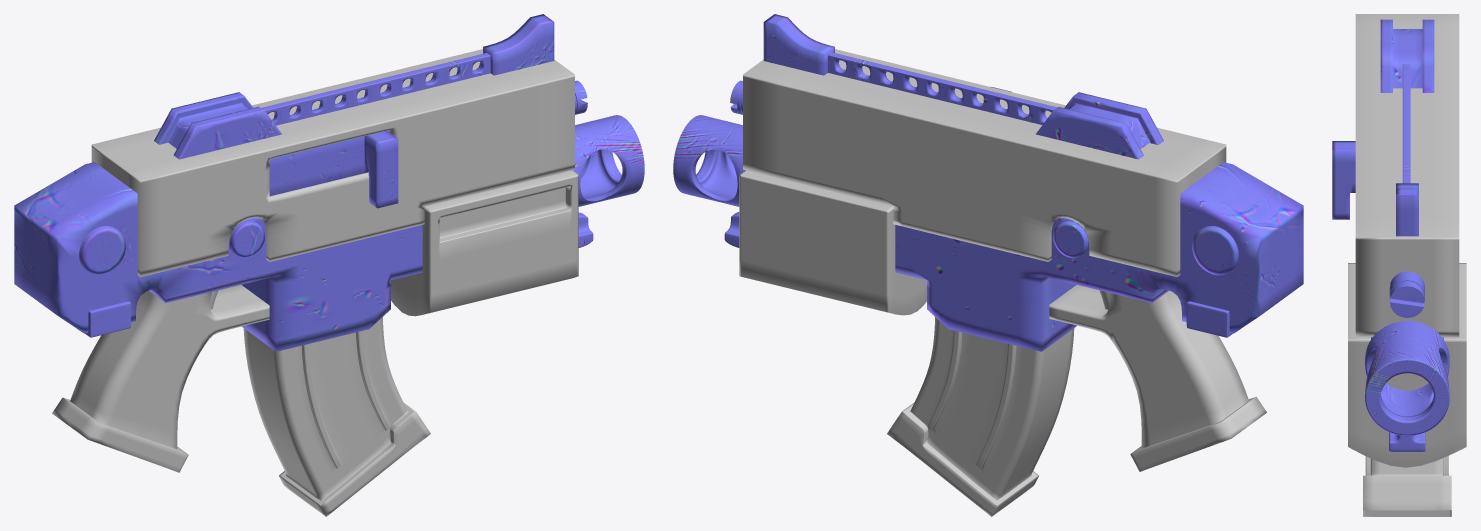
The model's file is Boltergun_base.fbx.
3 views of the same model, side by side, from view 1: azimuth 30°, elevation 25°; view 2: azimuth 150°, elevation 25°; view 3: azimuth 270°, elevation 25° (orthographic). The views are drawn at different scales.
Visible parts, largest first — view 1: pCube26, pCube28, pCube6, pCube12, pCube2, pcube29, pCube25, pPipe5, pPlane6, pCube24, pCylinder4, pCube23 (+1 smaller); view 2: pCube26, pCube28, pCube6, pCube12, pCube2, pCube25, pPipe5, pPlane6, pCube24, pCylinder4, pCube23, pCylinder3; view 3: pCube26, pCube2, pPipe5, pCube6, pCube25, pcube29, pCylinder2, pCube24, pPlane6, pCube22.
Part boxes in pixels (left/top/right/bottom): pCube26: left=91, top=49, right=574, bottom=276; pCube28: left=14, top=162, right=422, bottom=351; pCube6: left=243, top=317, right=430, bottom=516; pCube12: left=52, top=285, right=269, bottom=472; pCube2: left=391, top=170, right=578, bottom=316; pcube29: left=269, top=130, right=398, bottom=208; pCube25: left=154, top=92, right=281, bottom=159; pPipe5: left=573, top=115, right=644, bottom=206; pPlane6: left=261, top=53, right=490, bottom=125; pCube24: left=483, top=14, right=554, bottom=75; pCylinder4: left=79, top=226, right=125, bottom=275; pCube23: left=85, top=301, right=130, bottom=337; pCube26: left=743, top=49, right=1226, bottom=276; pCube28: left=895, top=162, right=1303, bottom=351; pCube6: left=887, top=317, right=1074, bottom=516; pCube12: left=1049, top=285, right=1266, bottom=471; pCube2: left=739, top=170, right=926, bottom=315; pCube25: left=1036, top=92, right=1163, bottom=159; pPipe5: left=673, top=115, right=744, bottom=206; pPlane6: left=828, top=52, right=1057, bottom=124; pCube24: left=763, top=14, right=834, bottom=75; pCylinder4: left=1192, top=226, right=1238, bottom=275; pCube23: left=1186, top=301, right=1232, bottom=337; pCylinder3: left=1053, top=221, right=1088, bottom=258; pCube26: left=1355, top=14, right=1459, bottom=337; pCube2: left=1348, top=263, right=1466, bottom=467; pPipe5: left=1365, top=321, right=1449, bottom=435; pCube6: left=1363, top=455, right=1451, bottom=516; pCube25: left=1380, top=19, right=1434, bottom=92; pcube29: left=1332, top=141, right=1355, bottom=219; pCylinder2: left=1389, top=271, right=1424, bottom=317; pCube24: left=1396, top=183, right=1418, bottom=236; pPlane6: left=1402, top=64, right=1410, bottom=183; pCube22: left=1389, top=432, right=1425, bottom=451.
Size of the model in its own units: 2.16 by 1.48 by 0.4047.
